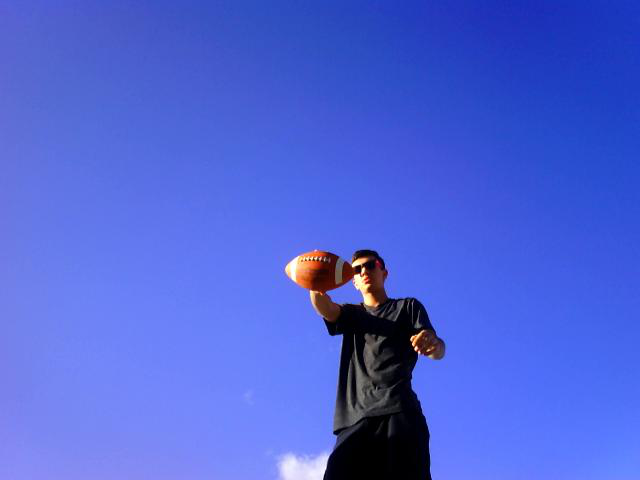football: (280, 242, 362, 295)
